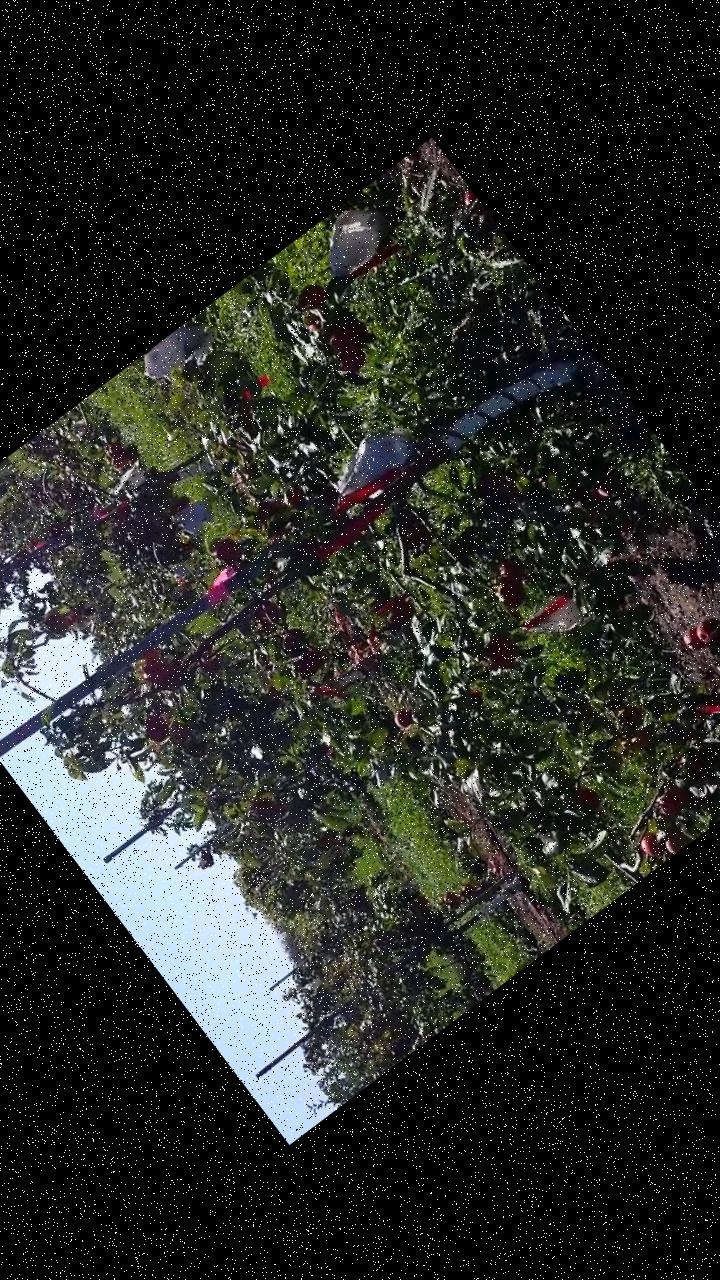Apple: (470, 629, 522, 681), (651, 780, 695, 824), (470, 462, 514, 506), (330, 308, 370, 351), (487, 574, 527, 615), (248, 488, 288, 528), (380, 595, 420, 634), (134, 712, 172, 750), (272, 619, 310, 657), (206, 531, 244, 569), (293, 276, 330, 314), (610, 695, 647, 733), (488, 554, 524, 592), (332, 342, 369, 378), (136, 652, 172, 688), (152, 659, 188, 695), (290, 648, 326, 682), (250, 596, 284, 630), (39, 601, 72, 636), (388, 702, 419, 734), (637, 831, 668, 862), (276, 479, 306, 511), (324, 504, 354, 536), (575, 780, 605, 812), (195, 652, 224, 682), (620, 730, 650, 758), (325, 326, 354, 354), (246, 792, 274, 819), (660, 829, 687, 856), (168, 718, 192, 743), (261, 526, 286, 550), (301, 310, 325, 335), (138, 644, 160, 666), (468, 682, 485, 701)
